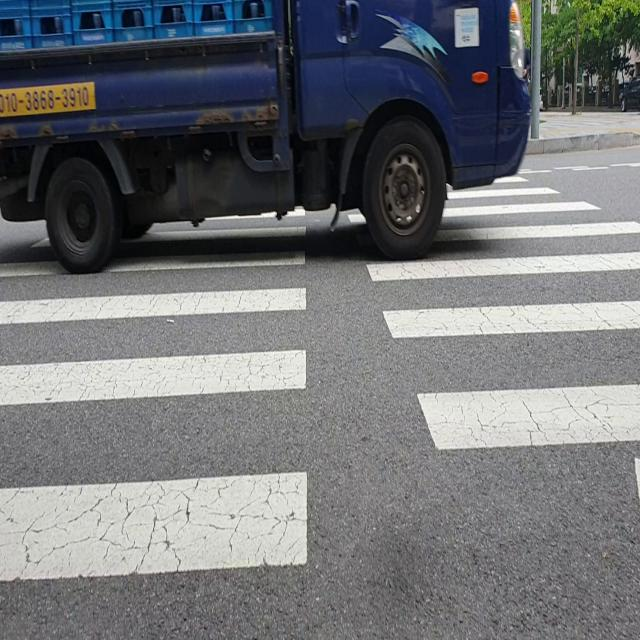횡단보도: (0, 122, 640, 597)
